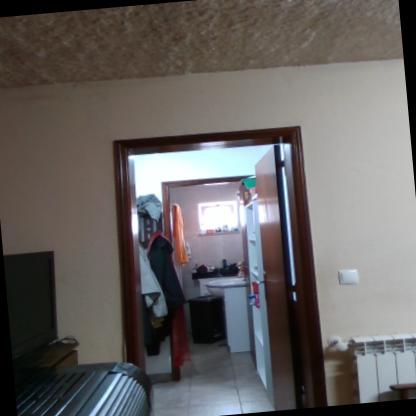open: (101, 108, 334, 414)
